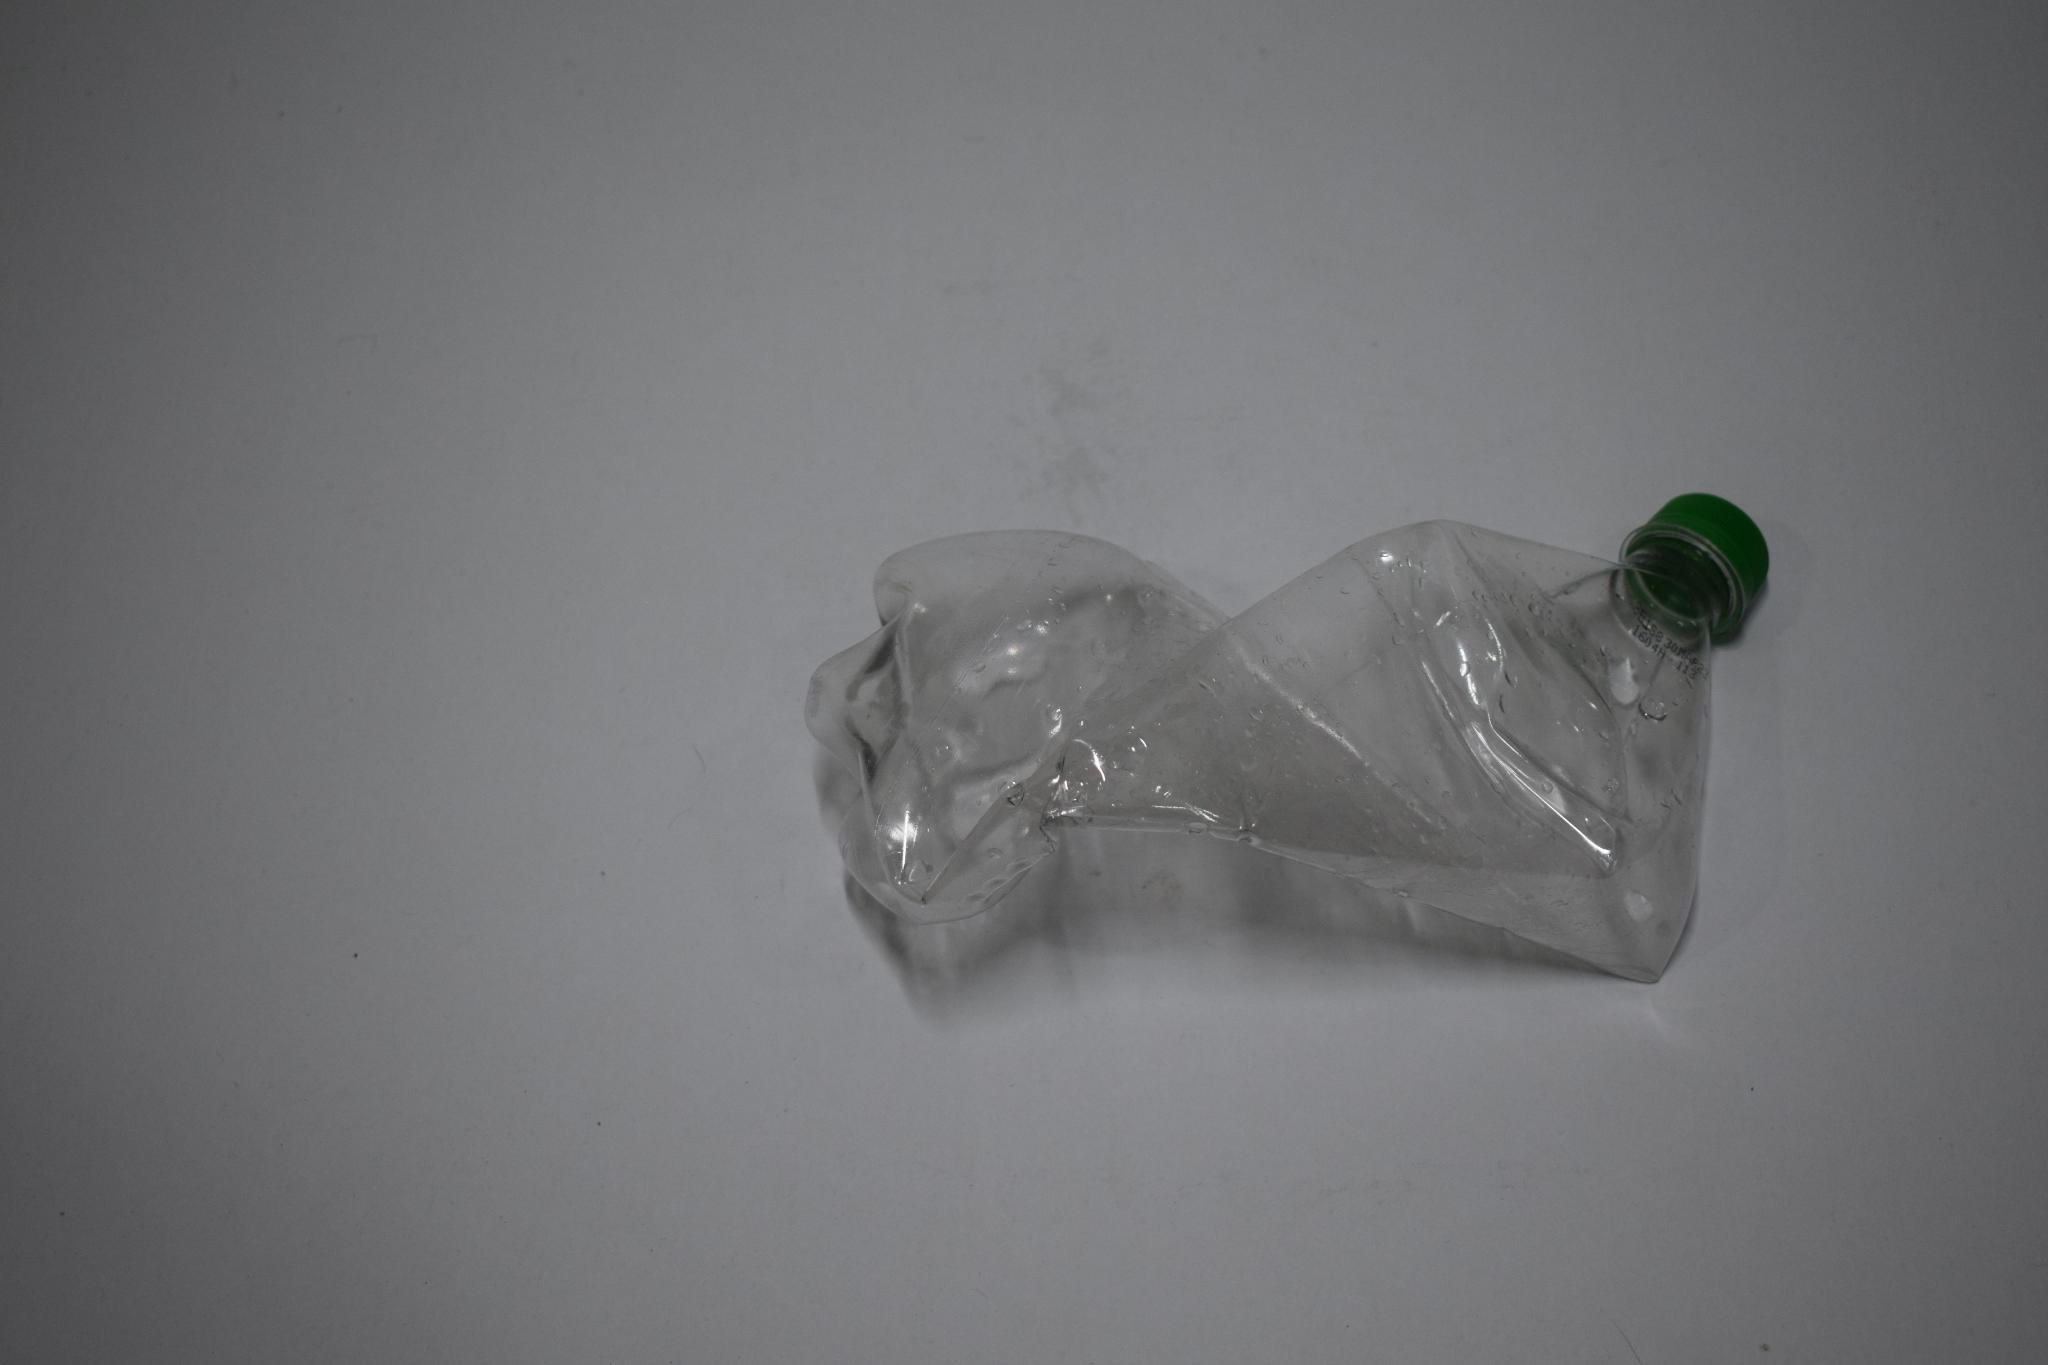bottle: (802, 472, 1778, 1039)
